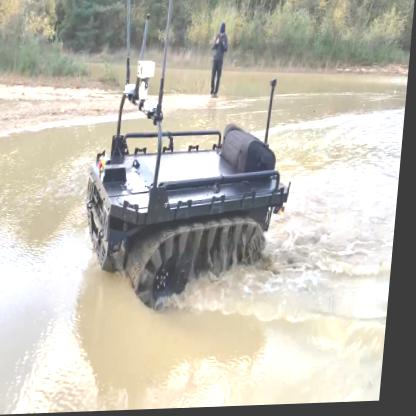Car: (207, 24, 231, 100)
UGV: (84, 128, 301, 301)
